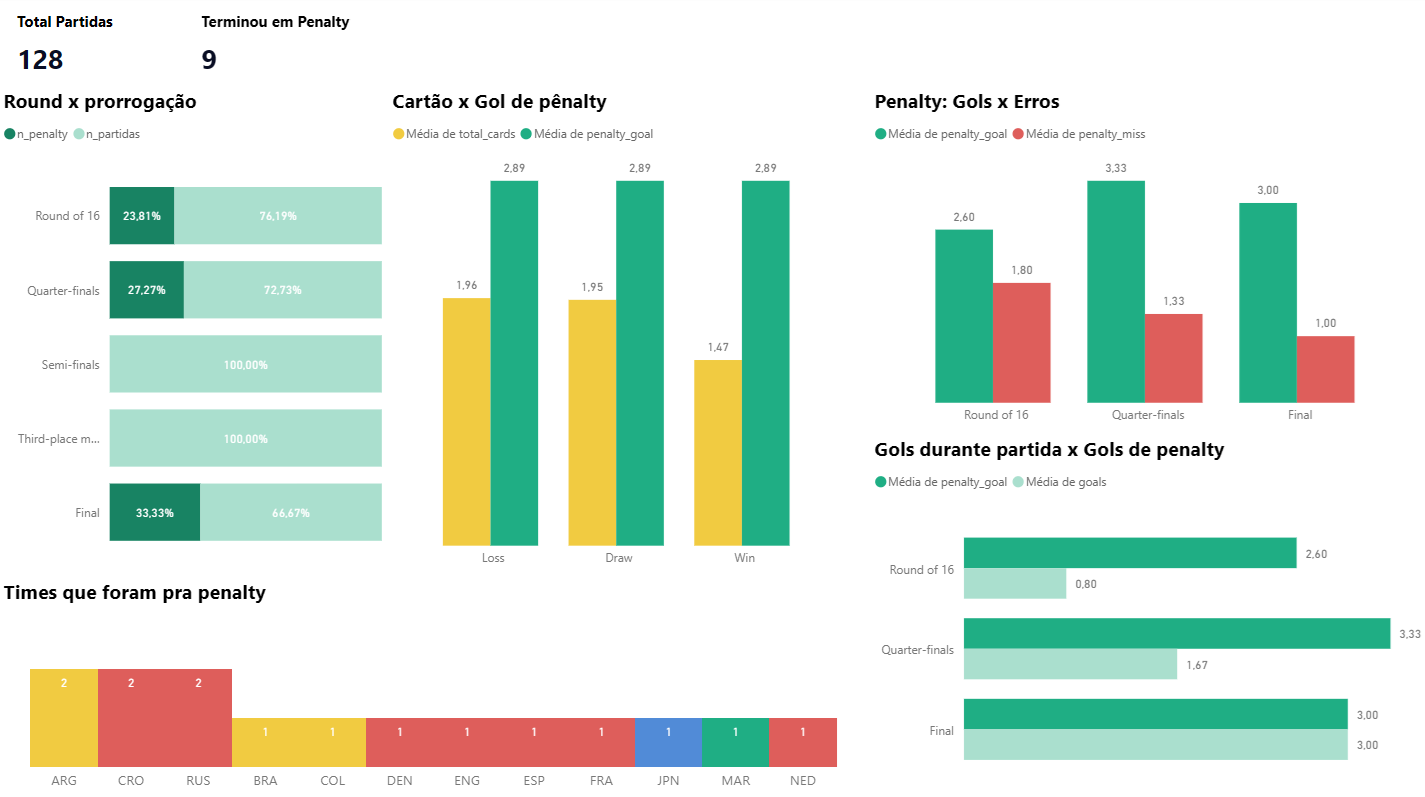

Layout of this report page (visuals, bound fields, positions):
{"tool":"powerbi","page":{"name":"Cartões x Penalty","canvas":[1280,720],"ordinal":3},"visuals":[{"type":"cardVisual","fields":{"Data":["matches_simple.n_partidas","matches_shootout.n_penalty"]},"box":[0,0,332.4,84.5],"z":0},{"type":"clusteredBarChart","title":"Gols durante partida x Gols de penalty","fields":{"Y":["Avg(matches_shootout.penalty_goal)","Avg(matches_shootout.goals)"],"Category":["Rounds.round"]},"box":[780.1,393.1,499.9,327.6],"z":1000},{"type":"clusteredColumnChart","title":"Penalty: Gols x Erros","fields":{"Y":["Avg(matches_shootout.penalty_goal)","Avg(matches_shootout.penalty_miss)"],"Category":["Rounds.round"]},"box":[780.1,81.6,499.9,311.4],"z":2000},{"type":"columnChart","title":"Times que foram pra penalty","fields":{"Series":["ranking_2022.association"],"Y":["Count(matches_shootout.Round number)"],"Category":["ranking_2022.team_code"]},"box":[0,521.1,780.1,199.6],"z":3000},{"type":"hundredPercentStackedBarChart","title":"Round x prorrogação","fields":{"Category":["Rounds.round"],"Y":["matches_shootout.n_penalty","matches_simple.n_partidas"]},"box":[0,81.6,348.7,439.4],"z":4000},{"type":"clusteredColumnChart","title":"Cartão x Gol de pênalty","fields":{"Category":["matches_simple.result"],"Y":["Avg(matches_simple.total_cards)","Avg(matches_shootout.penalty_goal)"]},"box":[348.7,81.6,415.2,439.4],"z":5000}]}

Visuals, with their boxes in screenshot pixels (x1, y1, x2, y2), scaled from the page's 1280x720 canvas onto the 1425x797 screenshot:
cardVisual - matches_simple.n_partidas x matches_shootout.n_penalty: 0/0/370/94
"Gols durante partida x Gols de penalty" clusteredBarChart: 868/435/1424/796
"Penalty: Gols x Erros" clusteredColumnChart: 868/90/1424/435
"Times que foram pra penalty" columnChart: 0/577/868/796
"Round x prorrogação" hundredPercentStackedBarChart: 0/90/388/577
"Cartão x Gol de pênalty" clusteredColumnChart: 388/90/850/577
